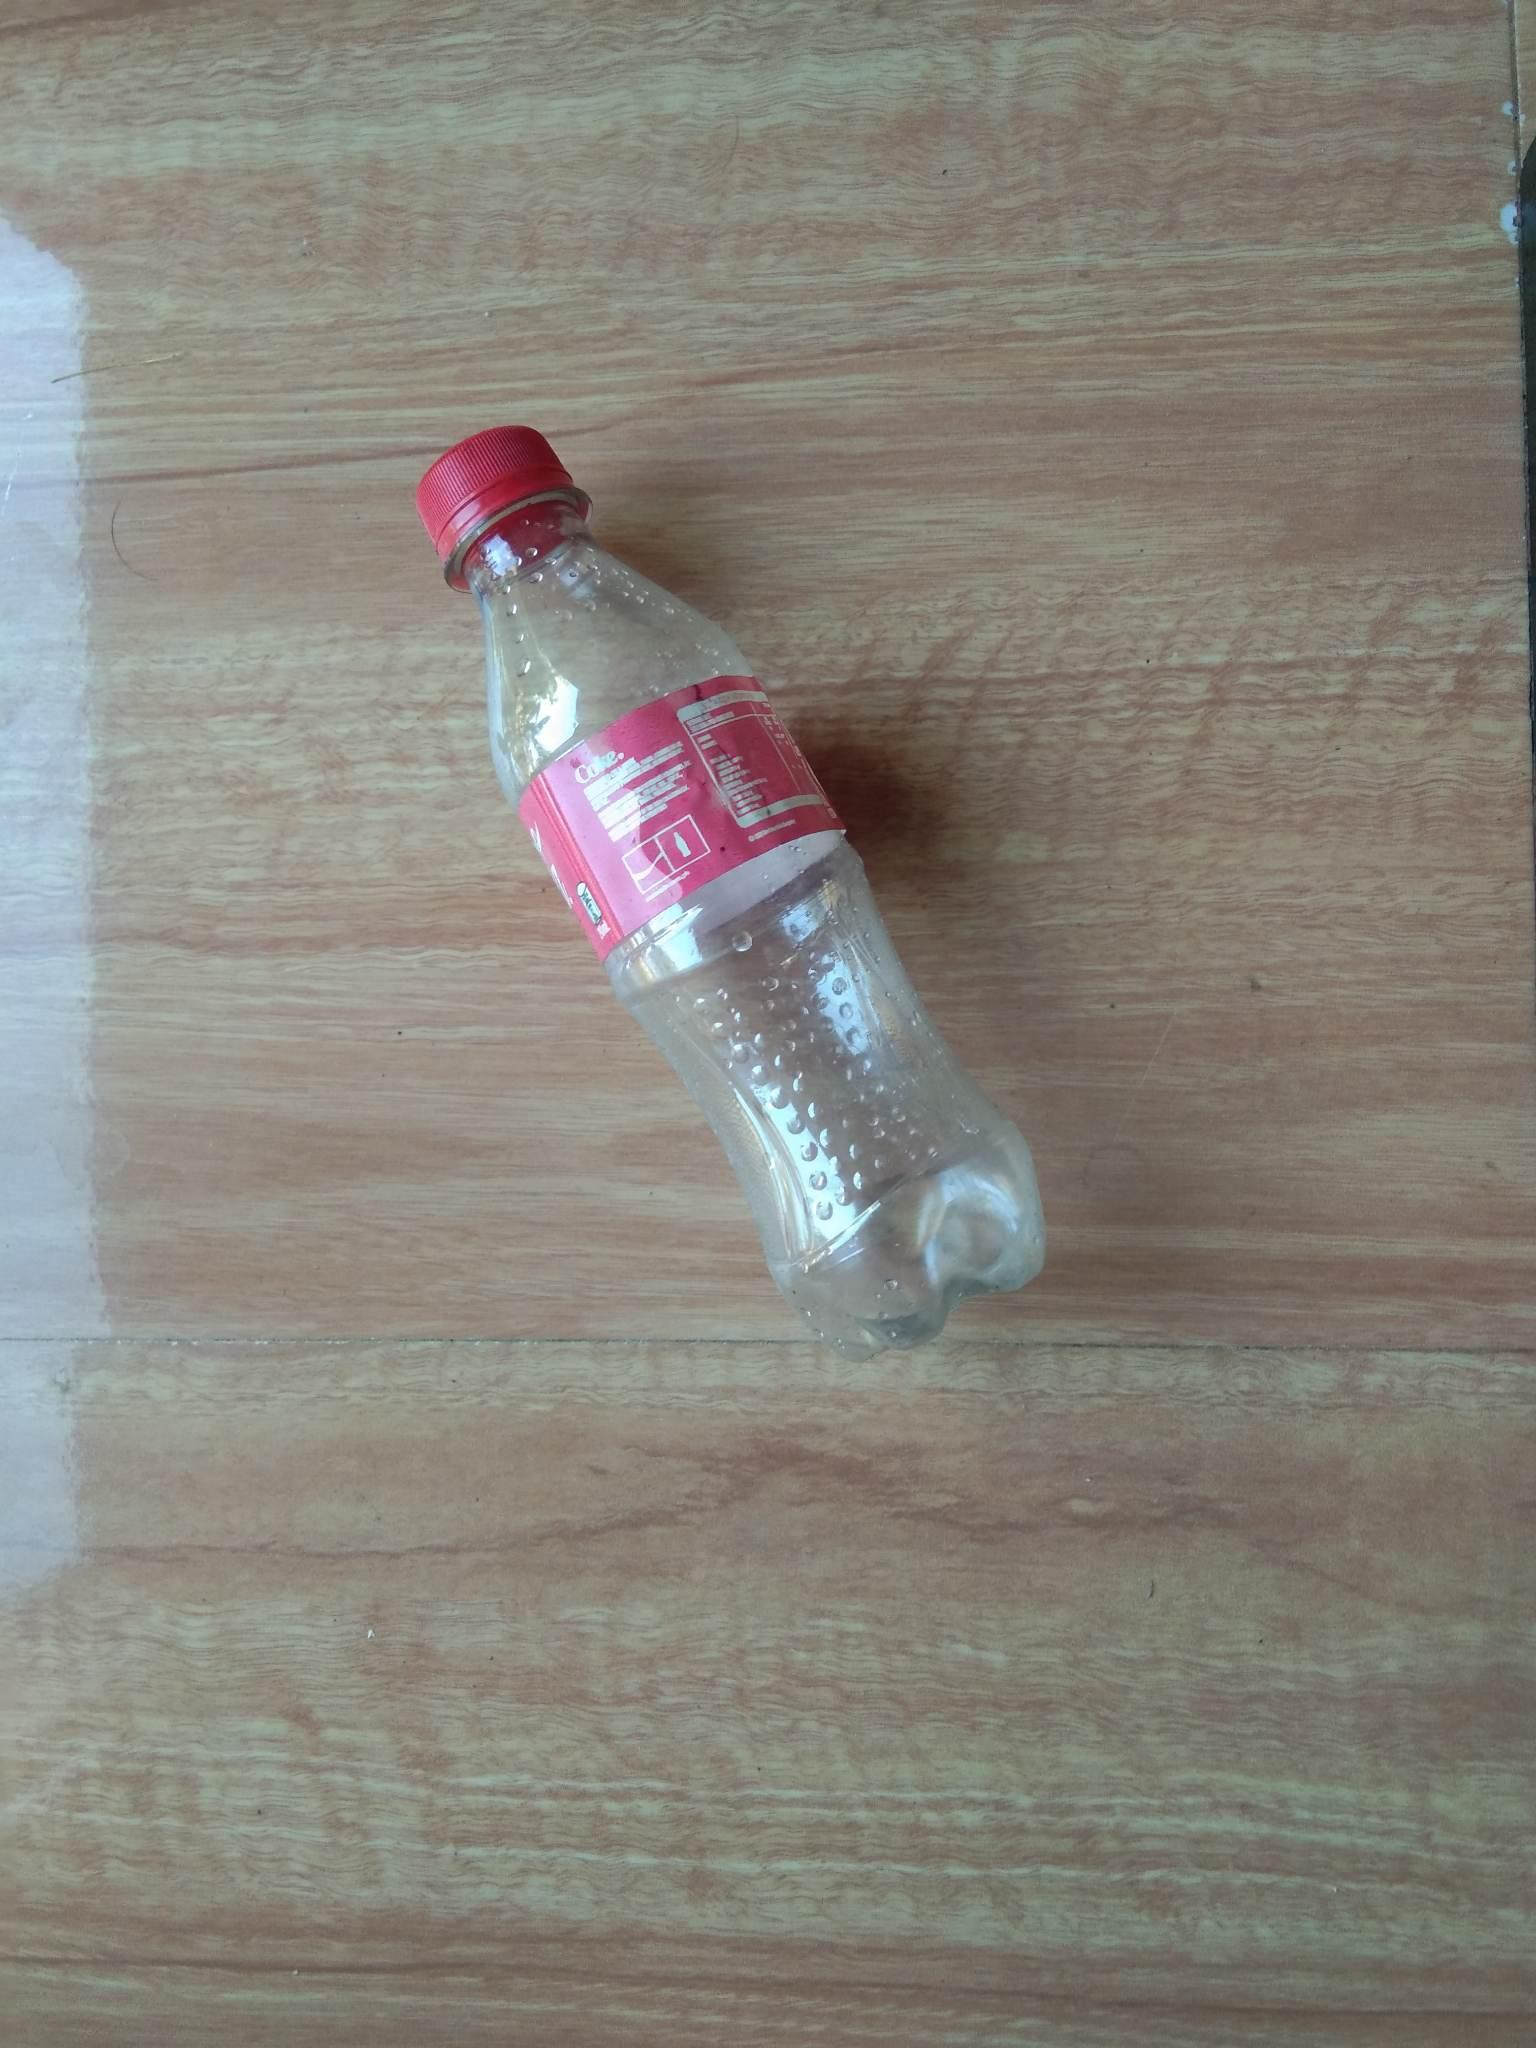plastic: (316, 361, 1078, 1408)
